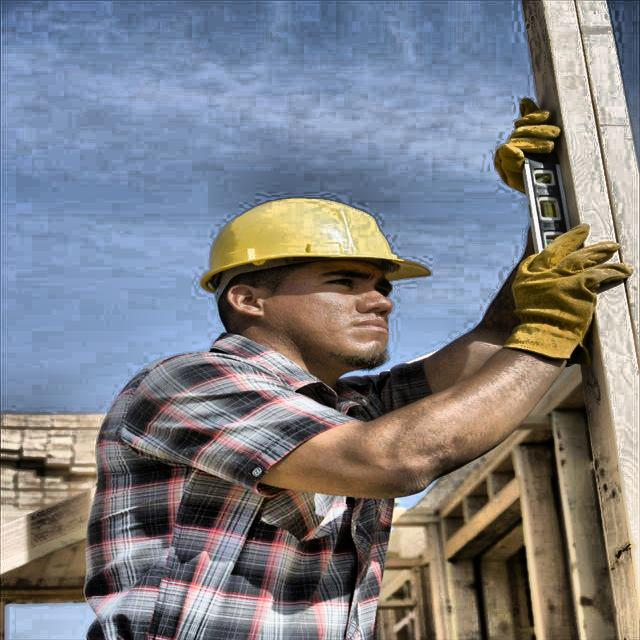helmet: (175, 169, 442, 379)
